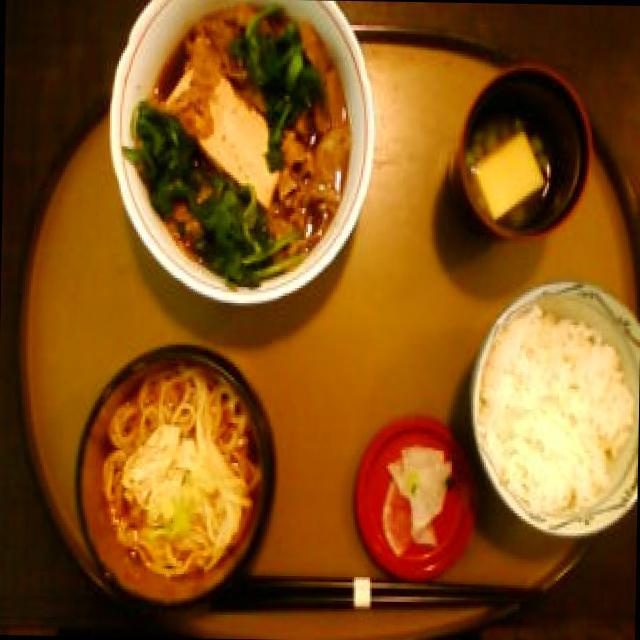Rice: (466, 288, 637, 534)
